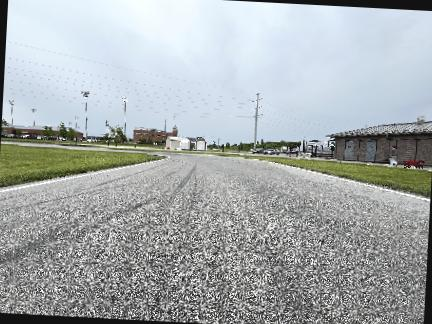Grass: (142, 149, 431, 196), (242, 156, 431, 196), (0, 145, 163, 187)
Lane: (0, 153, 429, 323)
